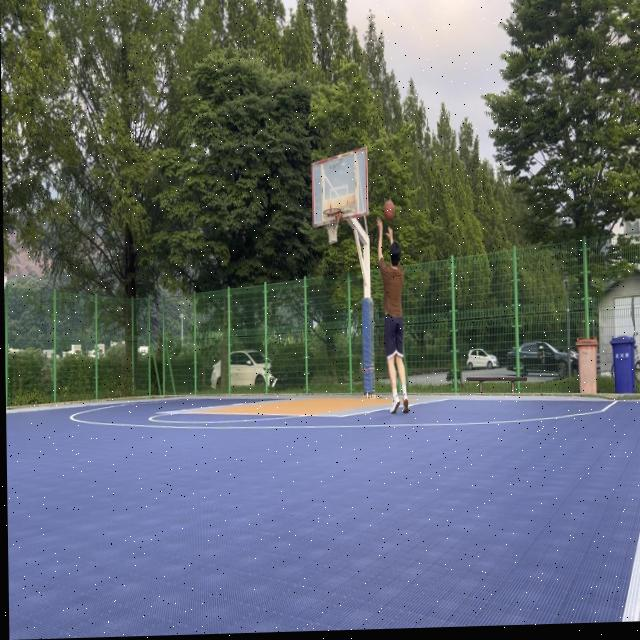basketball: (383, 201, 396, 221)
hoop: (323, 207, 342, 246)
